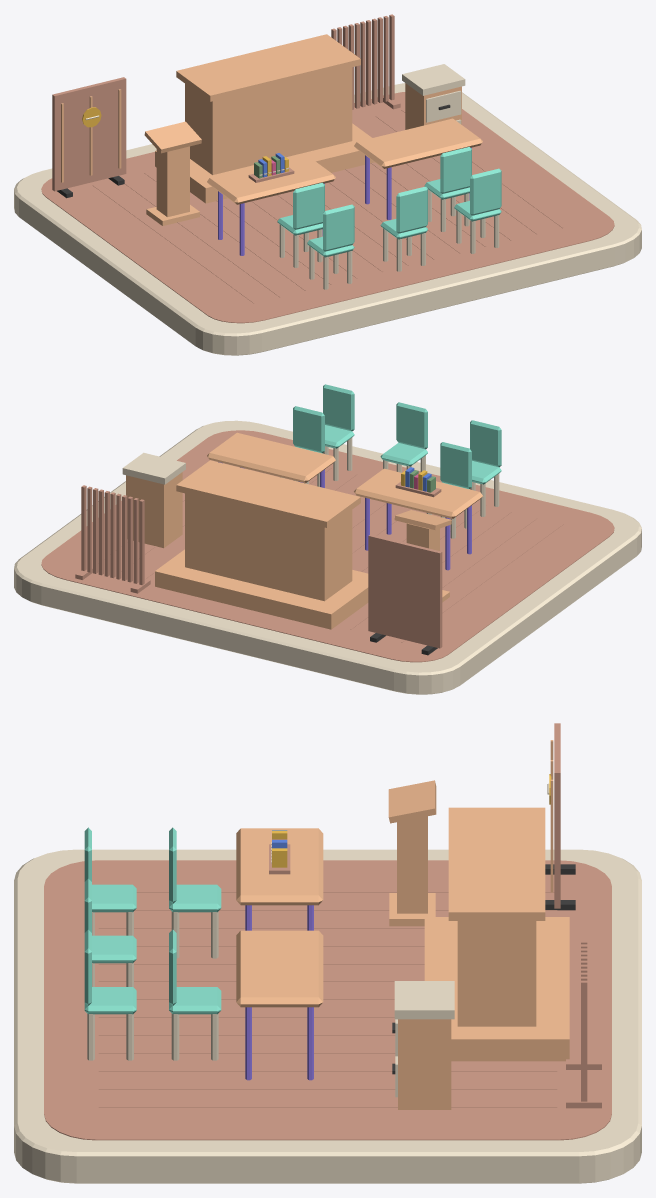
The picture shows the model from 3 angles, top to bottom: view 1: azimuth 30°, elevation 25°; view 2: azimuth 150°, elevation 25°; view 3: azimuth 270°, elevation 25°; orthographic projection. The views are drawn at different scales.
Visible parts, largest first — view 1: COM-02 Floor Surface, COM-01 Rounded Base Direct, Bench, Panel, Top, Rounded table top.001, Rounded table top, Platform, Body, Top.001, Backrest.002, Backrest.003 (+13 smaller); view 2: COM-02 Floor Surface, COM-01 Rounded Base Direct, Bench, Panel, Platform, Top, Rounded table top.001, Body.001, Rounded table top, Top.001, Backrest, Backrest.001 (+19 smaller); view 3: COM-02 Floor Surface, COM-01 Rounded Base Direct, Top, Platform, Bench, Rounded table top.001, Rounded table top, Body.001, Body, Top.001, Reading top, Seat (+10 smaller).
Boxes of the visible parts, <box> form: COM-02 Floor Surface: <box>41,92,614,323</box>; COM-01 Rounded Base Direct: <box>14,83,641,355</box>; Bench: <box>185,67,352,174</box>; Panel: <box>52,77,126,191</box>; Top: <box>176,34,360,101</box>; Rounded table top.001: <box>354,118,482,168</box>; Rounded table top: <box>207,154,335,204</box>; Platform: <box>155,123,374,203</box>; Body: <box>156,146,189,217</box>; Top.001: <box>402,64,465,95</box>; Backrest.002: <box>323,204,354,251</box>; Backrest.003: <box>396,186,427,233</box>; COM-02 Floor Surface: <box>41,430,614,662</box>; COM-01 Rounded Base Direct: <box>14,420,641,694</box>; Bench: <box>185,493,352,601</box>; Panel: <box>368,534,442,648</box>; Platform: <box>155,549,368,629</box>; Top: <box>176,460,360,527</box>; Rounded table top.001: <box>207,432,335,483</box>; Body.001: <box>126,472,182,548</box>; Rounded table top: <box>354,468,482,518</box>; Top.001: <box>122,452,185,484</box>; Backrest: <box>440,442,471,488</box>; Backrest.001: <box>293,406,324,453</box>; COM-02 Floor Surface: <box>44,860,611,1140</box>; COM-01 Rounded Base Direct: <box>14,849,641,1183</box>; Top: <box>448,807,545,920</box>; Platform: <box>424,917,569,1061</box>; Bench: <box>457,921,536,1026</box>; Rounded table top.001: <box>236,930,323,1007</box>; Rounded table top: <box>236,828,323,905</box>; Body.001: <box>398,1019,451,1109</box>; Body: <box>397,816,427,913</box>; Top.001: <box>394,981,454,1019</box>; Reading top: <box>388,780,436,823</box>; Seat: <box>169,884,221,912</box>.
Size of the model in its own units: 6 by 1.59 by 5.2.
Materials: 1 (1 with a texture image).
